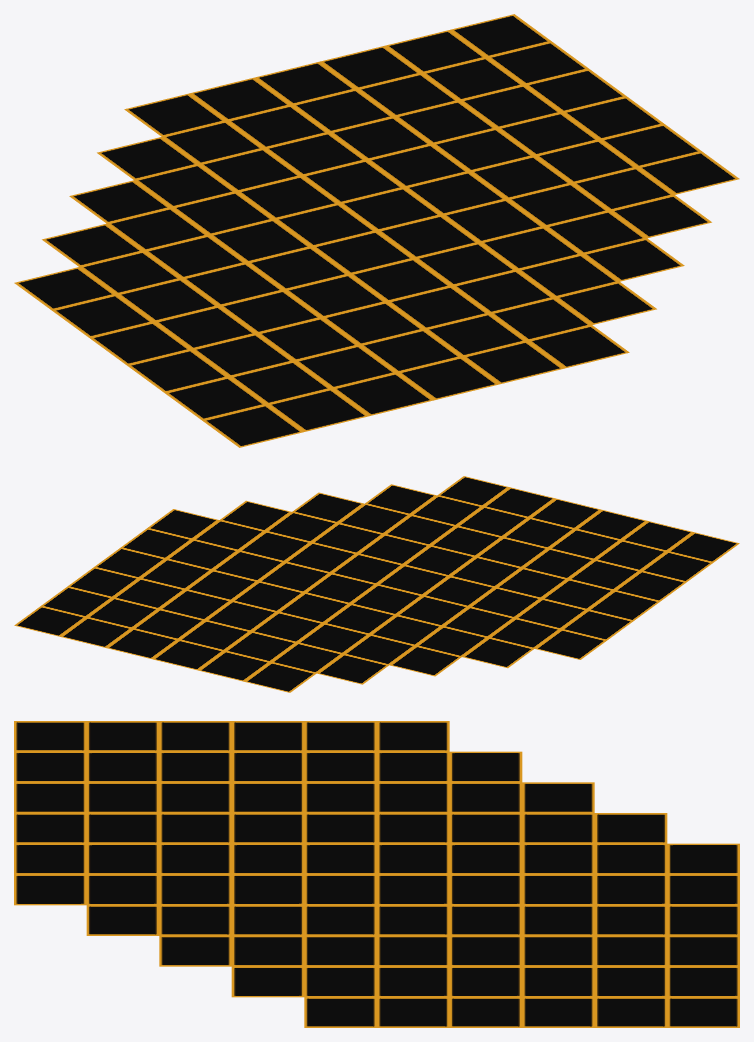
File: Diagonal.fbx
The picture shows the model from 3 angles, top to bottom: view 1: azimuth 30°, elevation 25°; view 2: azimuth 150°, elevation 25°; view 3: azimuth 270°, elevation 25°; orthographic projection. The views are drawn at different scales.
Visible parts, largest first — view 1: pPlane5; view 2: pPlane5; view 3: pPlane5.
Boxes of the visible parts, x1=… form: pPlane5: x1=14, y1=14, x2=739, y2=447; pPlane5: x1=14, y1=476, x2=739, y2=692; pPlane5: x1=14, y1=721, x2=739, y2=1027.
Size of the model in its own units: 25 by 0 by 25.
